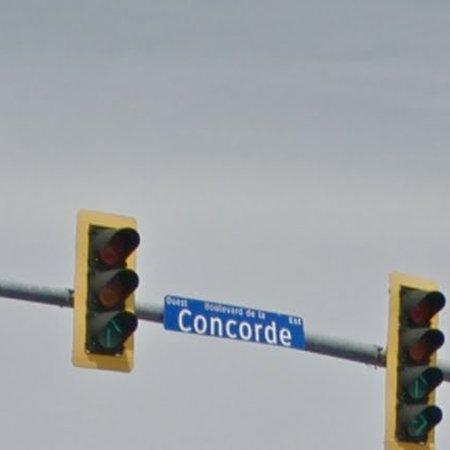traffic lights: (72, 211, 140, 373)
